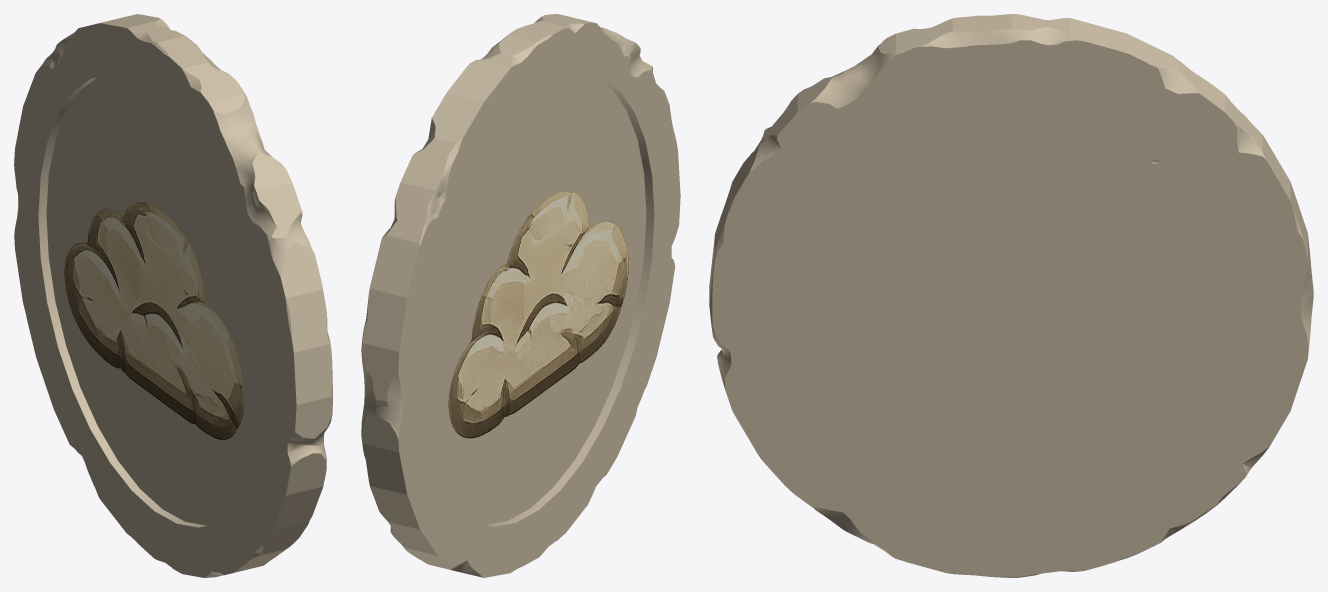
Rendered from Cloud.fbx.
3 renders of one model, left to right at view 1: azimuth 30°, elevation 25°; view 2: azimuth 150°, elevation 25°; view 3: azimuth 270°, elevation 25°, orthographic. The views are drawn at different scales.
Parts seen in each view (by area): view 1: Cylinder.010_dmg.001; view 2: Cylinder.010_dmg.001; view 3: Cylinder.010_dmg.001.
Boxes of the visible parts, <box> form: Cylinder.010_dmg.001: <box>14,14,332,577</box>; Cylinder.010_dmg.001: <box>361,14,680,577</box>; Cylinder.010_dmg.001: <box>709,14,1313,577</box>.
Bounding box in the file's own units: 8.69 × 113 × 113.
Materials: 2 (1 with a texture image).
